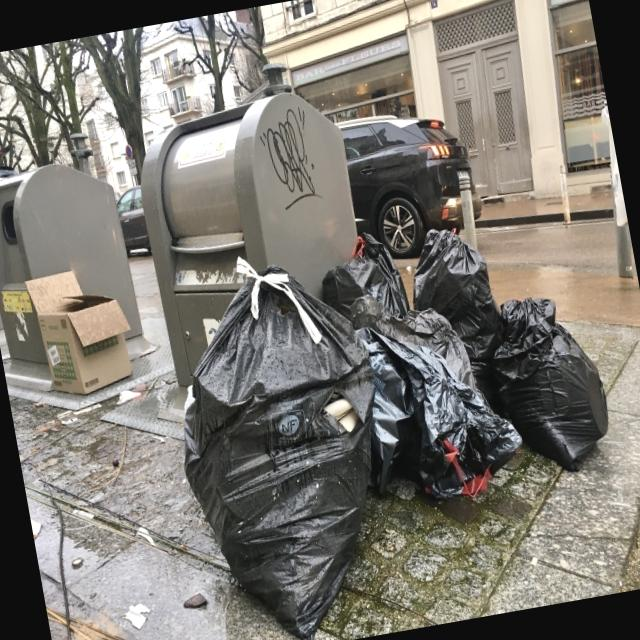garbage: (128, 193, 640, 640)
